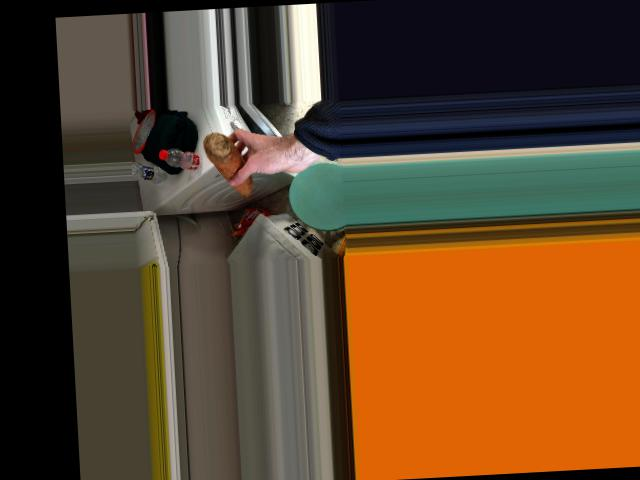sweet_potato: (202, 131, 251, 199)
